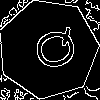Q: (23, 24, 81, 76)
